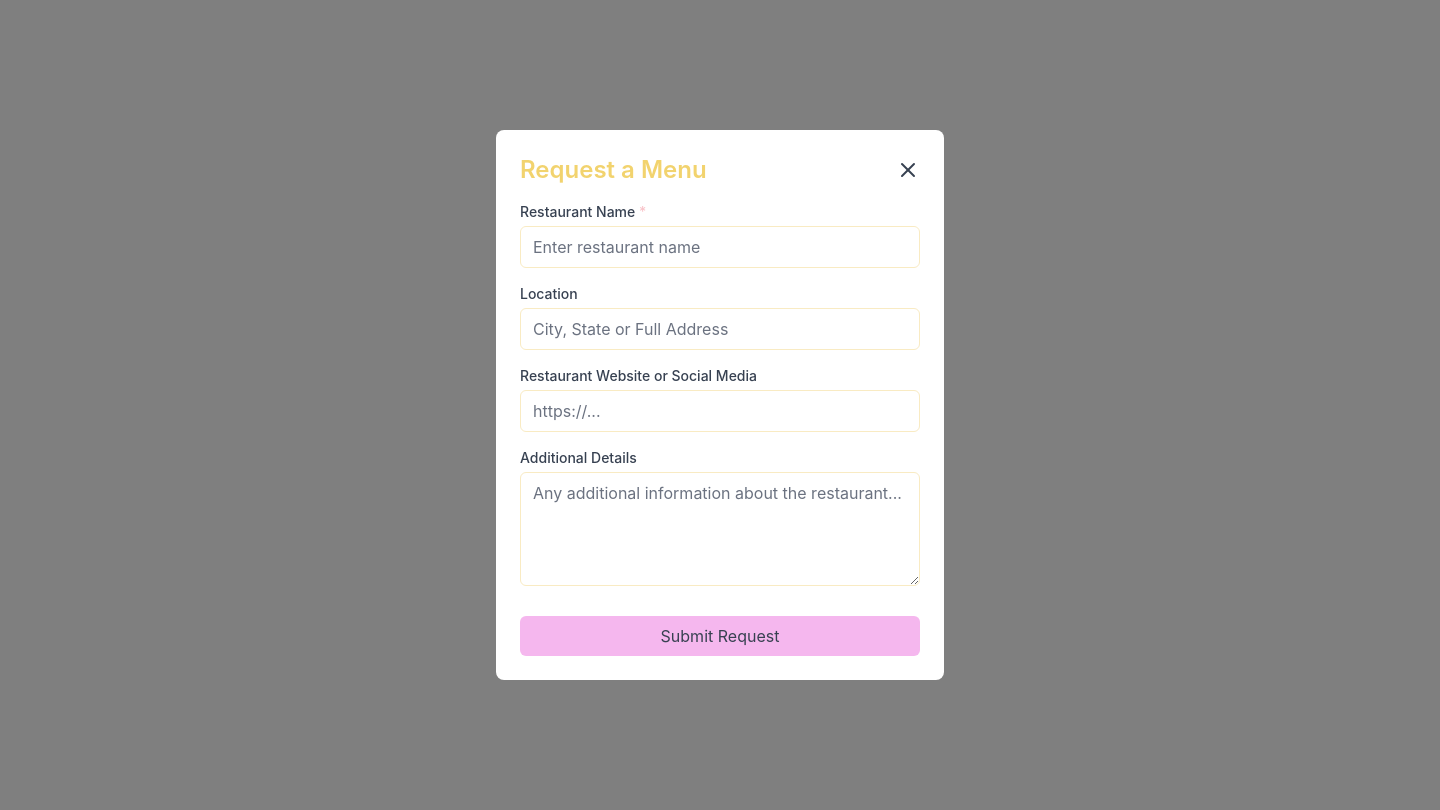
Test: RequestMenuModal › shows error message on failed request
The width and height of the screenshot is (1440, 810).
Type "Test Restaurant" into the field labelled "Restaurant Name *" at (720, 247), box x1=520 y1=226 x2=920 y2=268
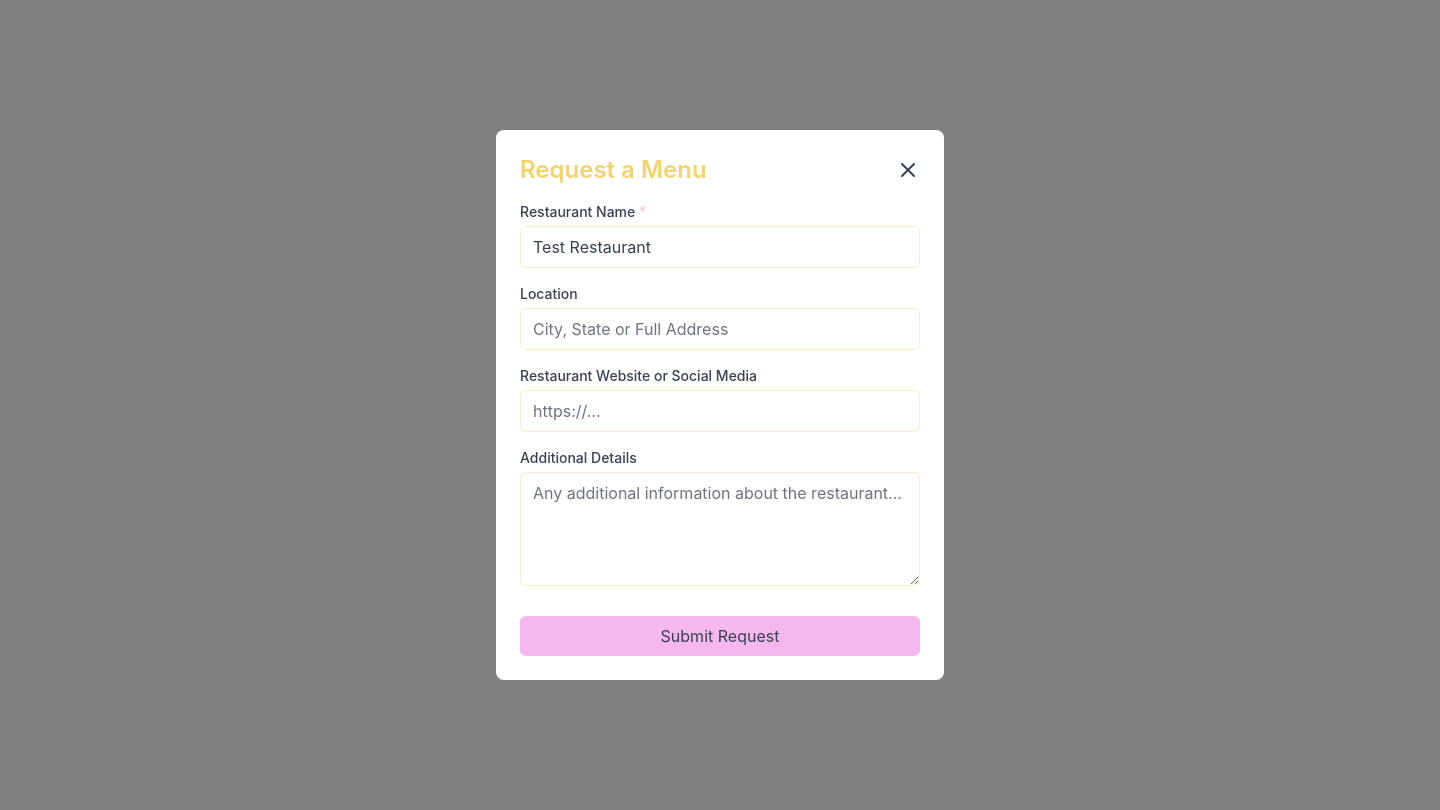
Click the button "Submit Request" at (720, 636), box x1=520 y1=616 x2=920 y2=656
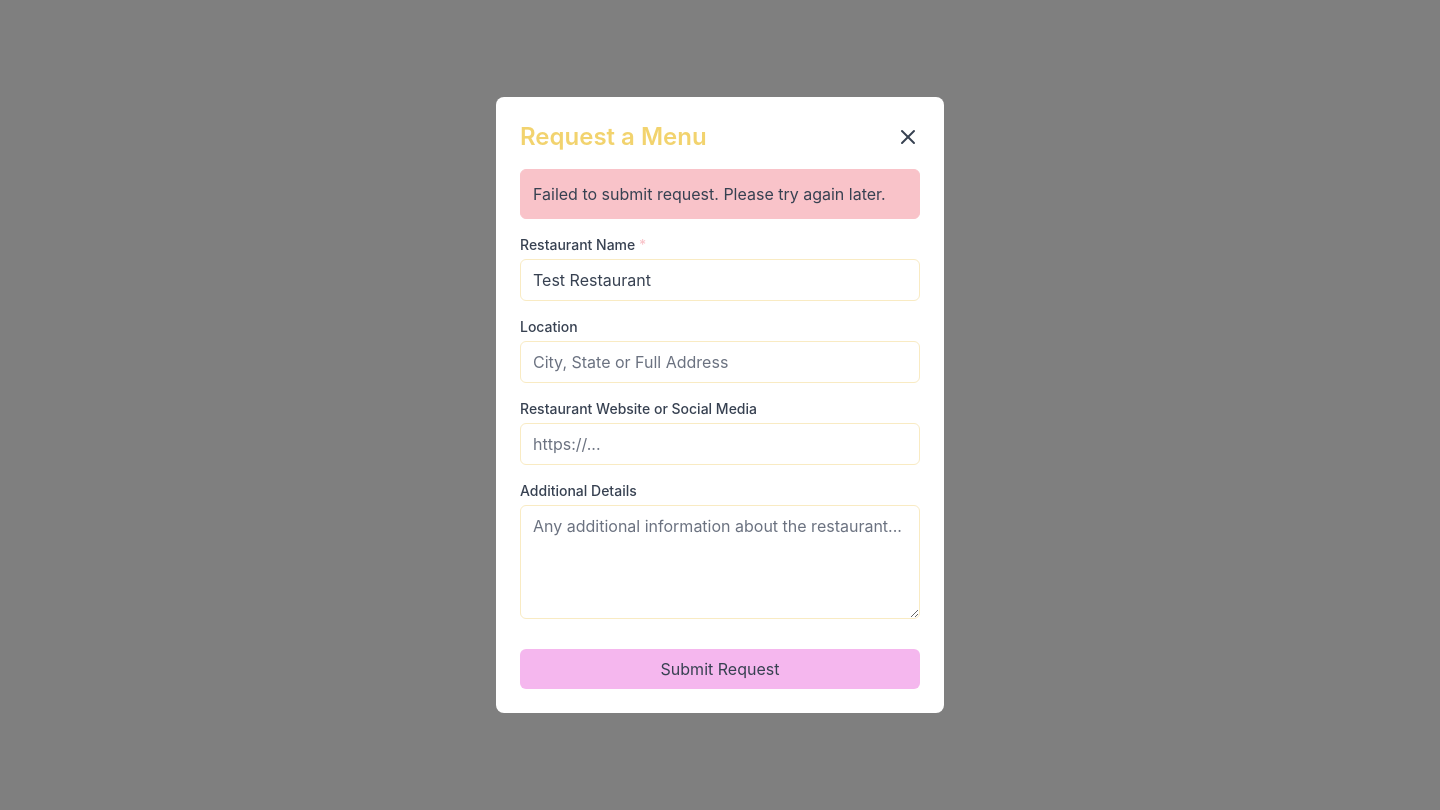
Now the text "Failed to submit request. Please try again later." is shown, box x1=520 y1=169 x2=920 y2=219
